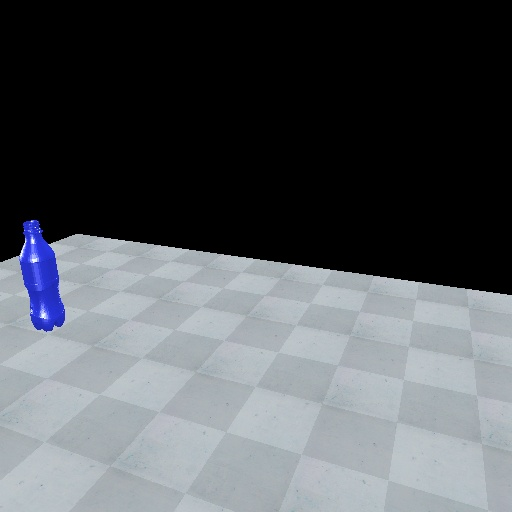bottle: (15, 216, 68, 333)
